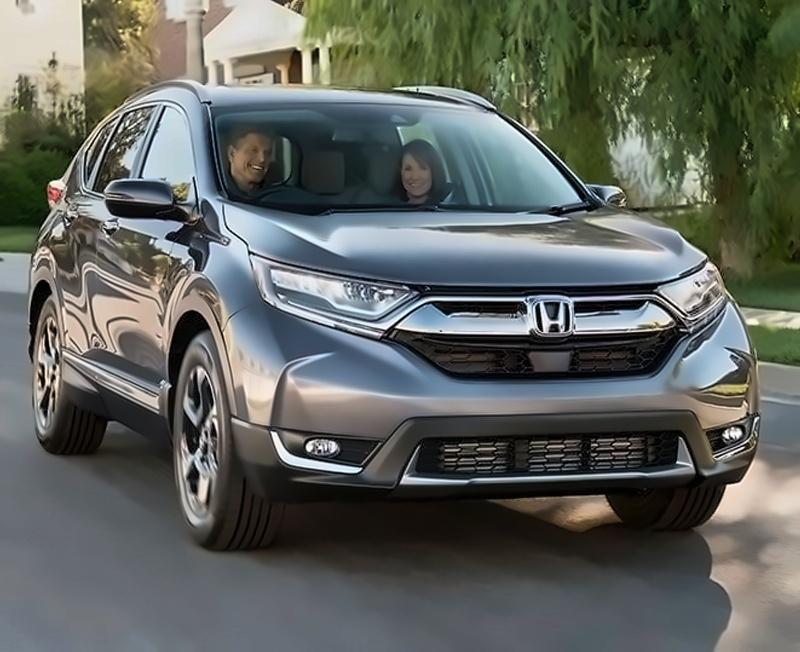Car hood: (222, 200, 711, 294)
Driver-s door - -F-R-: (93, 73, 221, 444)
Front bumper: (208, 301, 764, 503)
Headlight - -L-: (654, 254, 726, 343)
Headlight - -R-: (245, 251, 426, 344)
Passenger-s door - -R-R-: (42, 74, 156, 428)
Side bumper - -R-: (59, 348, 179, 458)
Side mirror - -R-: (101, 174, 207, 240)
